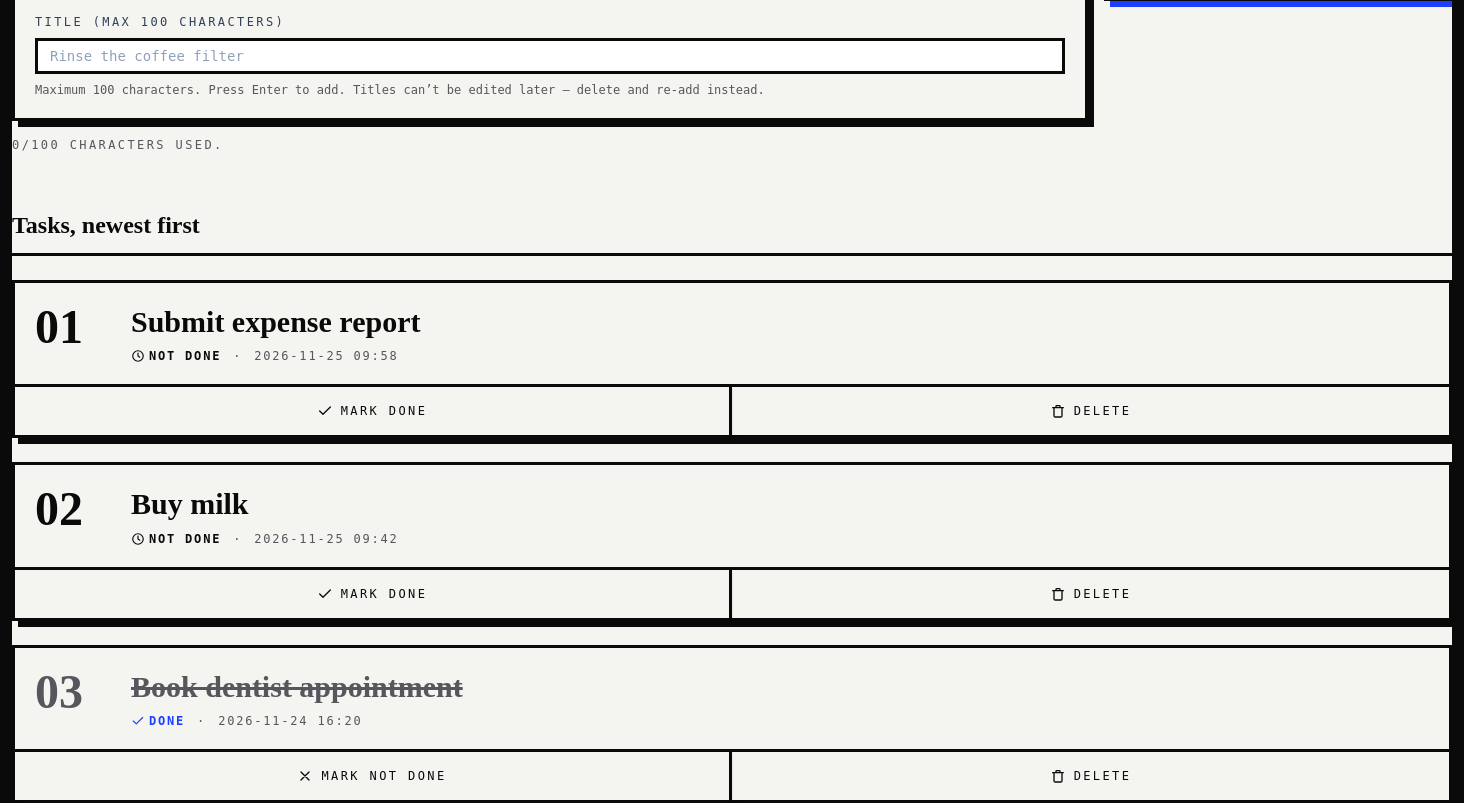
Test case: Tasks — mark a task as done › [AC-013] takes a done task back to not done in the same position
(page scrolled)
Click the button with test id "mark-not-done-btn".
click(374, 776)  # box [15,752,732,800]
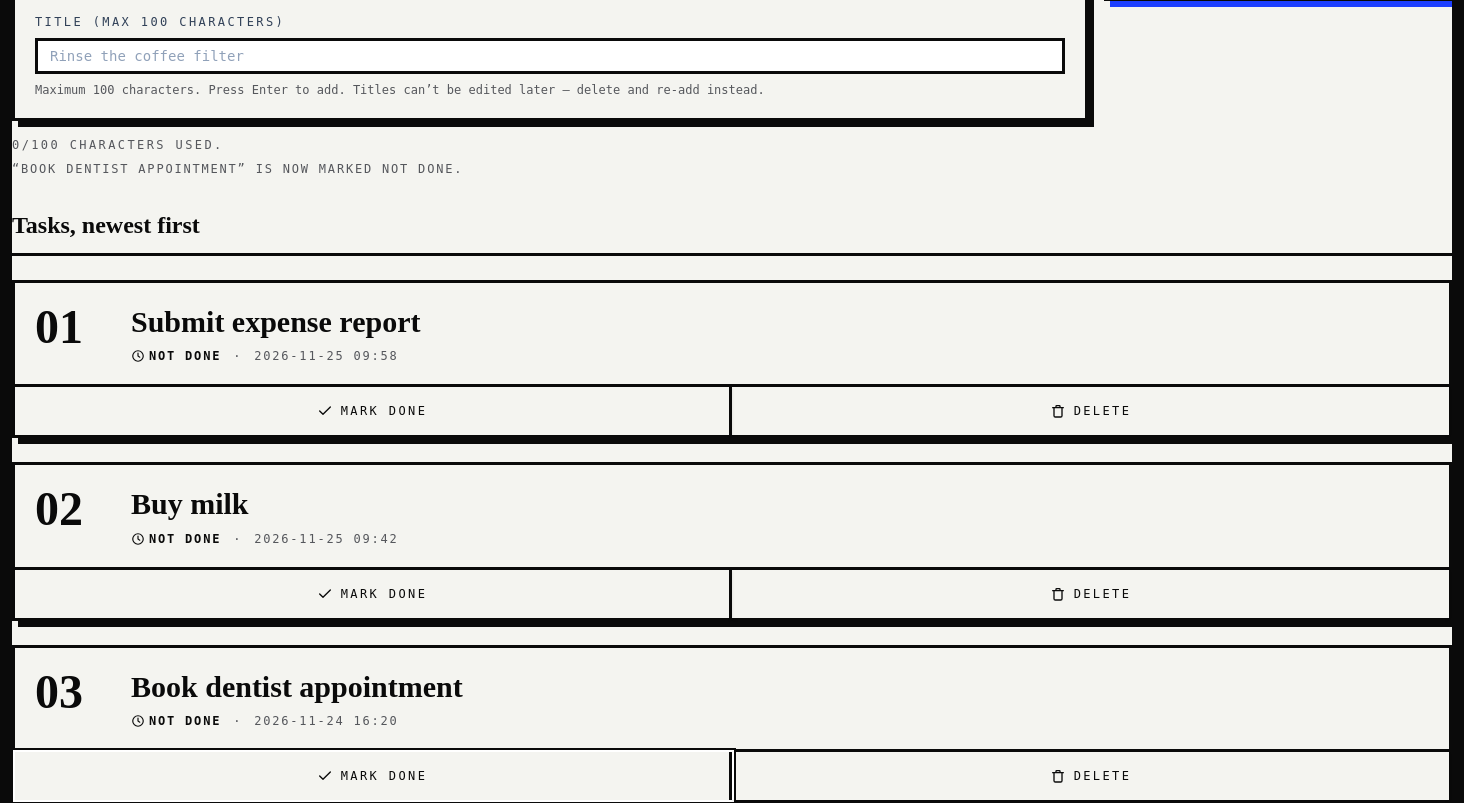
Check: the text "Not done" next to "2026-11-24 16:20" is shown, box [149,714,221,728]
